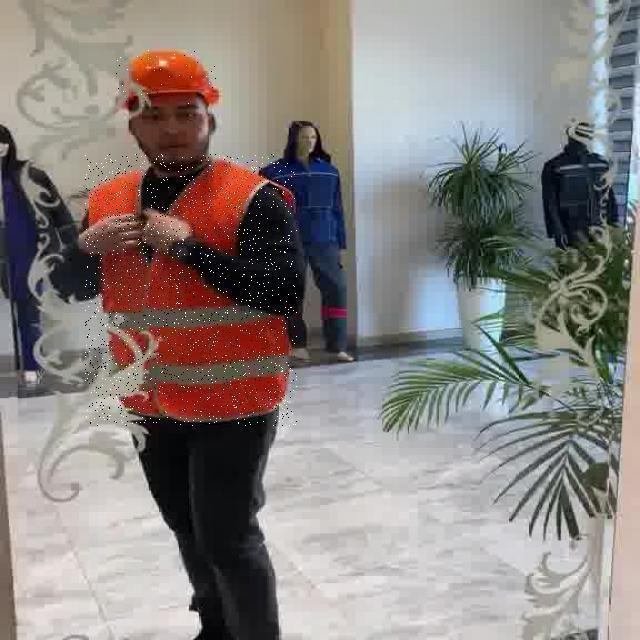helmet: (116, 49, 221, 105)
safety_vest: (85, 154, 297, 426)
